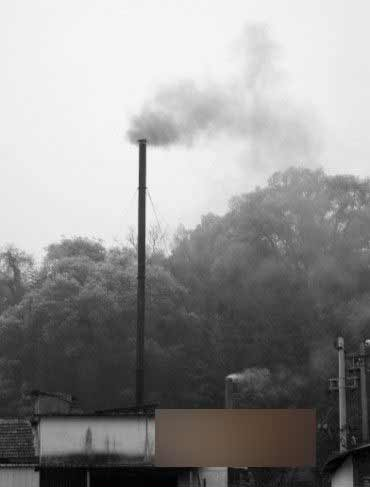dust: (122, 83, 252, 151)
